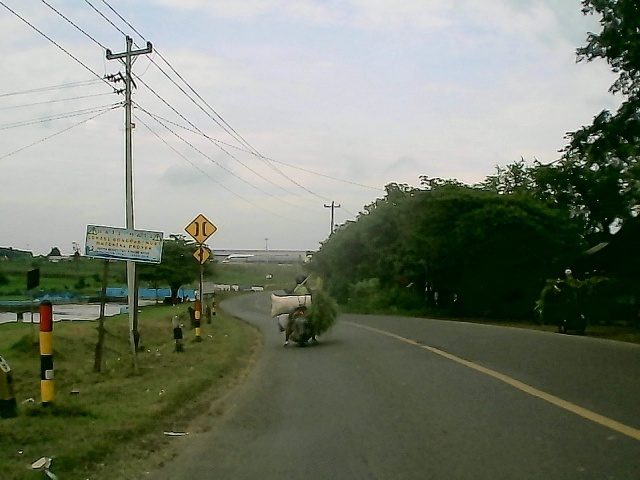Jembatan: (180, 211, 218, 247)
